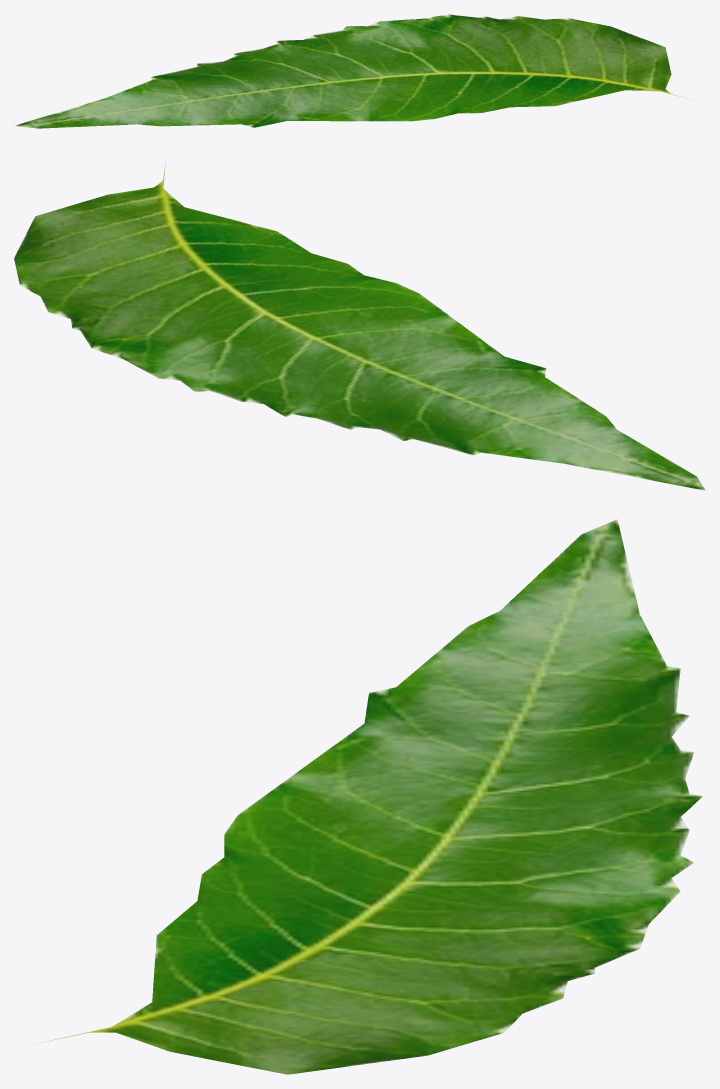
The model's file is green-neem.glb.
The picture shows the model from 3 angles, top to bottom: view 1: azimuth 30°, elevation 25°; view 2: azimuth 150°, elevation 25°; view 3: azimuth 270°, elevation 25°; orthographic projection. The views are drawn at different scales.
Visible parts, largest first — view 1: LeafObject; view 2: LeafObject; view 3: LeafObject.
Boxes of the visible parts, <box> form: LeafObject: <box>14,14,694,128</box>; LeafObject: <box>14,161,705,490</box>; LeafObject: <box>25,519,702,1074</box>.
Bounding box in the file's own units: 291 × 0 × 152.
Materials: 1 (1 with a texture image).
